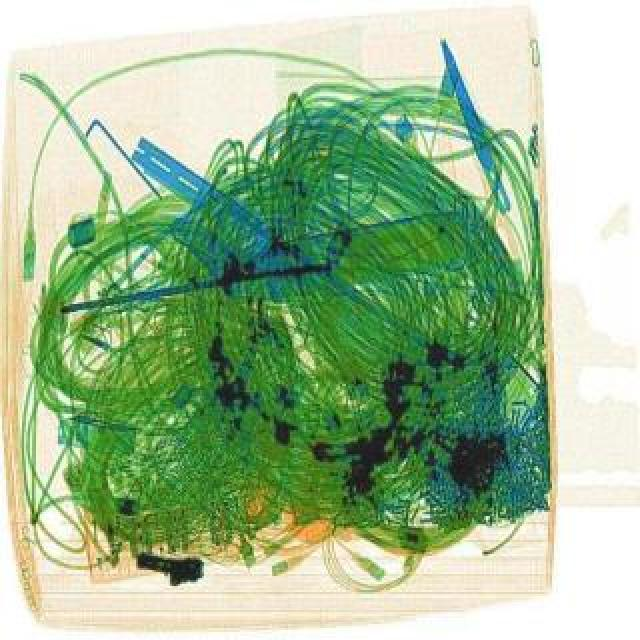gun: (130, 546, 204, 586)
